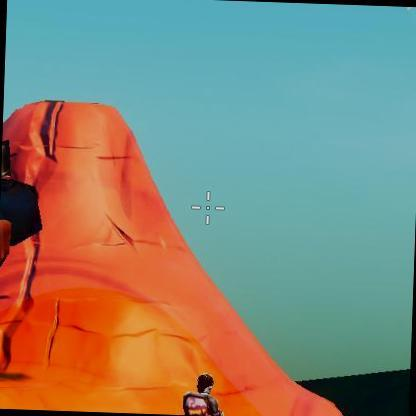person: (185, 378, 227, 416)
